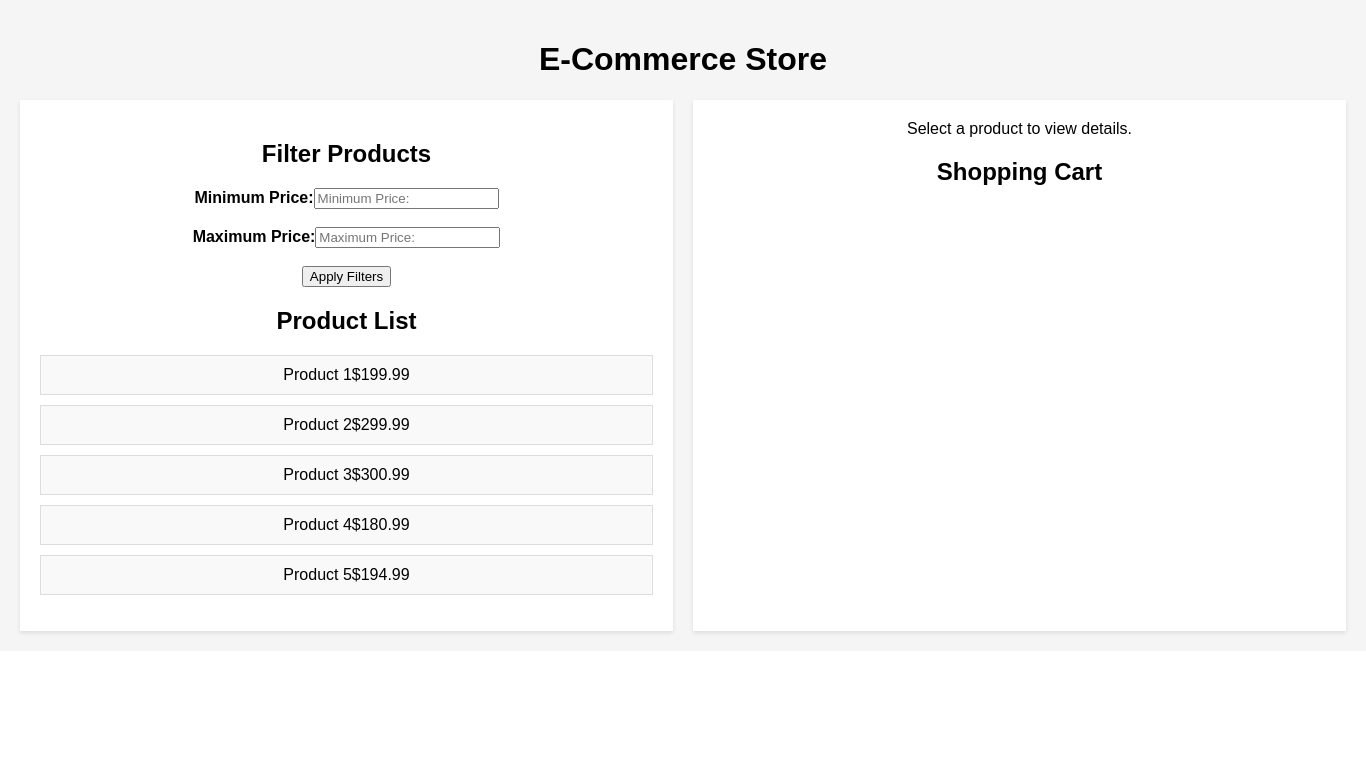
Test: displays_product_details_after_clicking_product
The width and height of the screenshot is (1366, 768).
Find a product element and click it
Click the list item with test id "product-item-1" at (346, 374), box [40, 354, 653, 394]
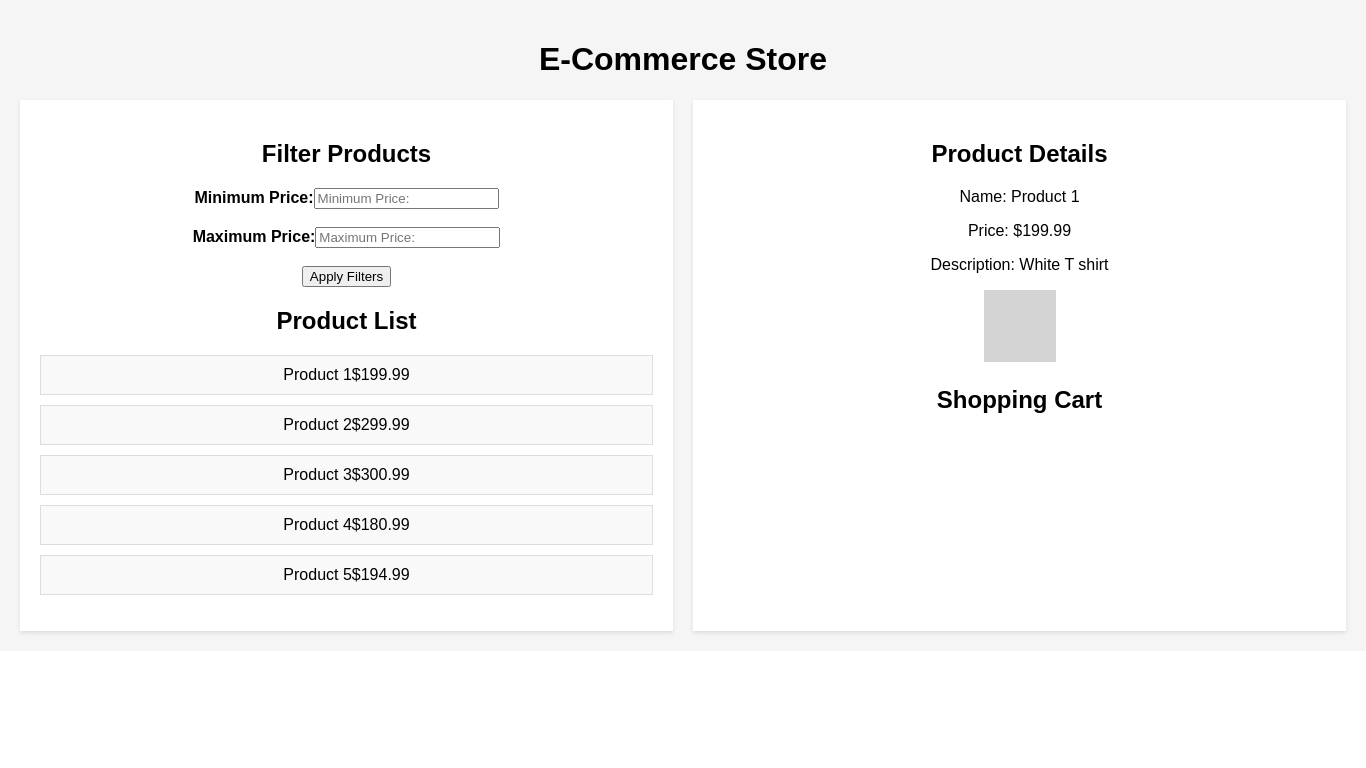
Now the heading "Product Details" is shown, box [932, 140, 1108, 167]
